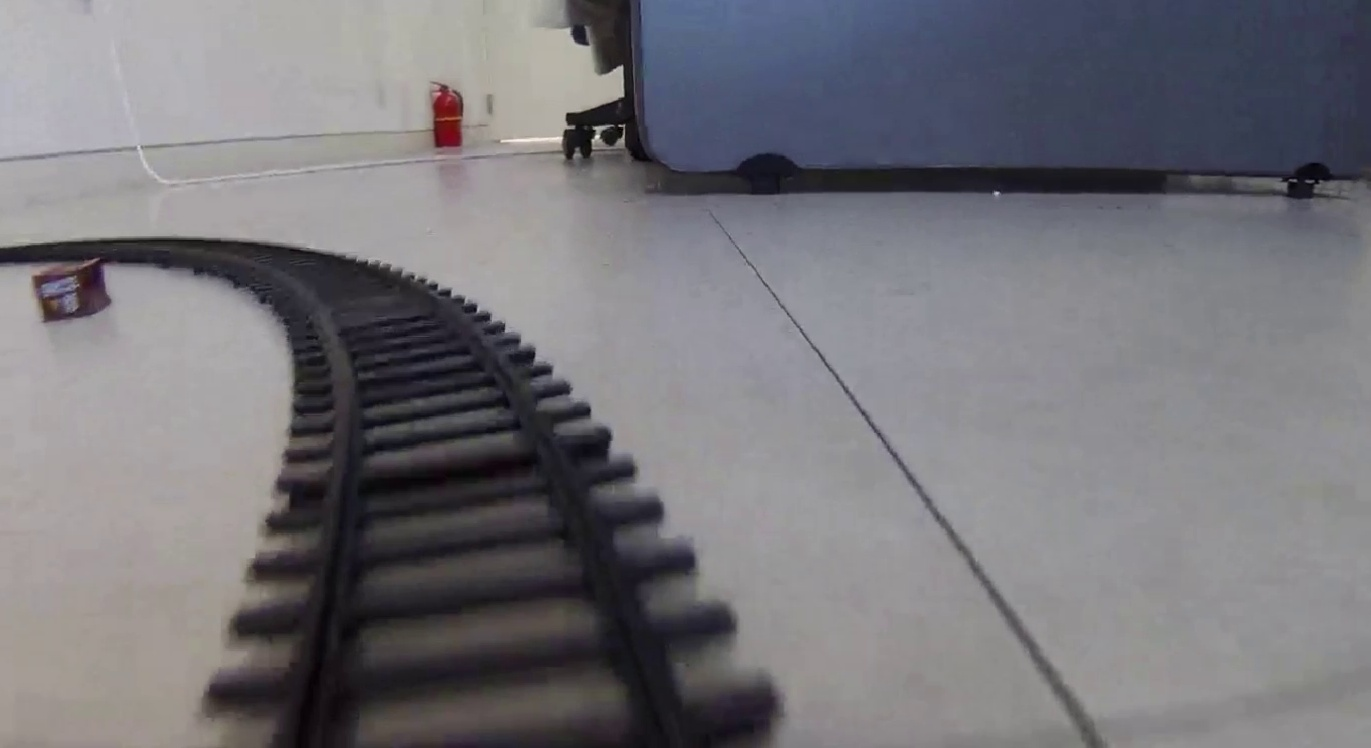box: (32, 261, 113, 324)
